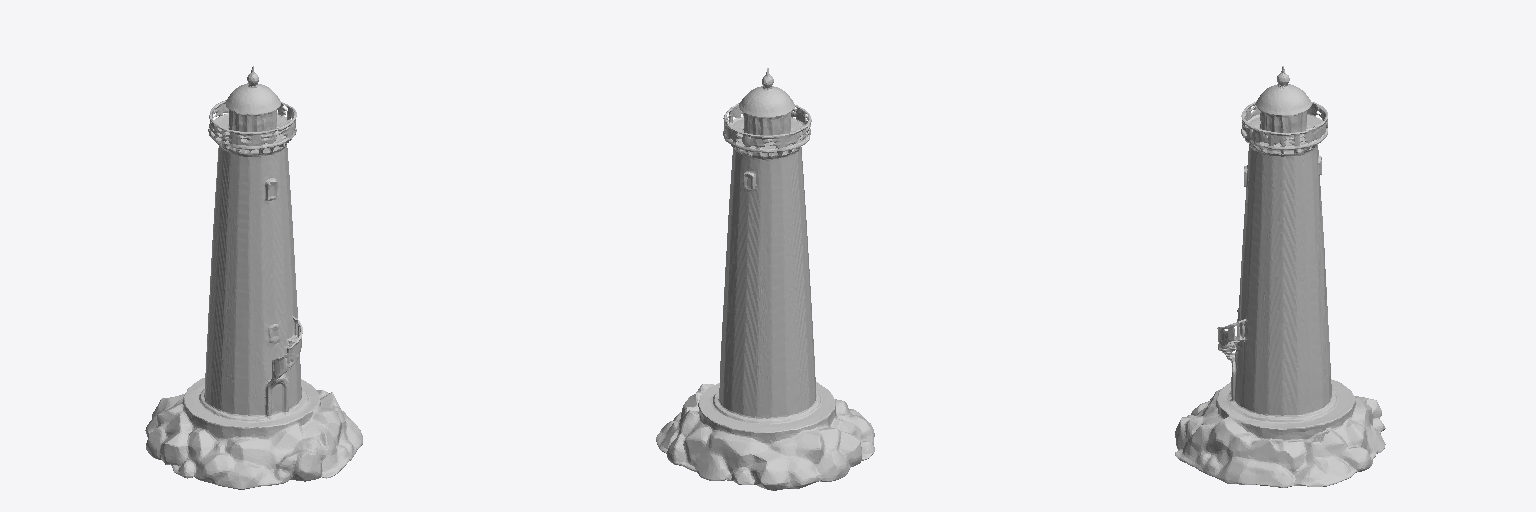
Rendered from Lighthouse.obj.
3 views of the same model, side by side, from view 1: azimuth 30°, elevation 25°; view 2: azimuth 150°, elevation 25°; view 3: azimuth 270°, elevation 25° (orthographic).
Bounding box in the file's own units: 1.04 × 2.02 × 1.02.